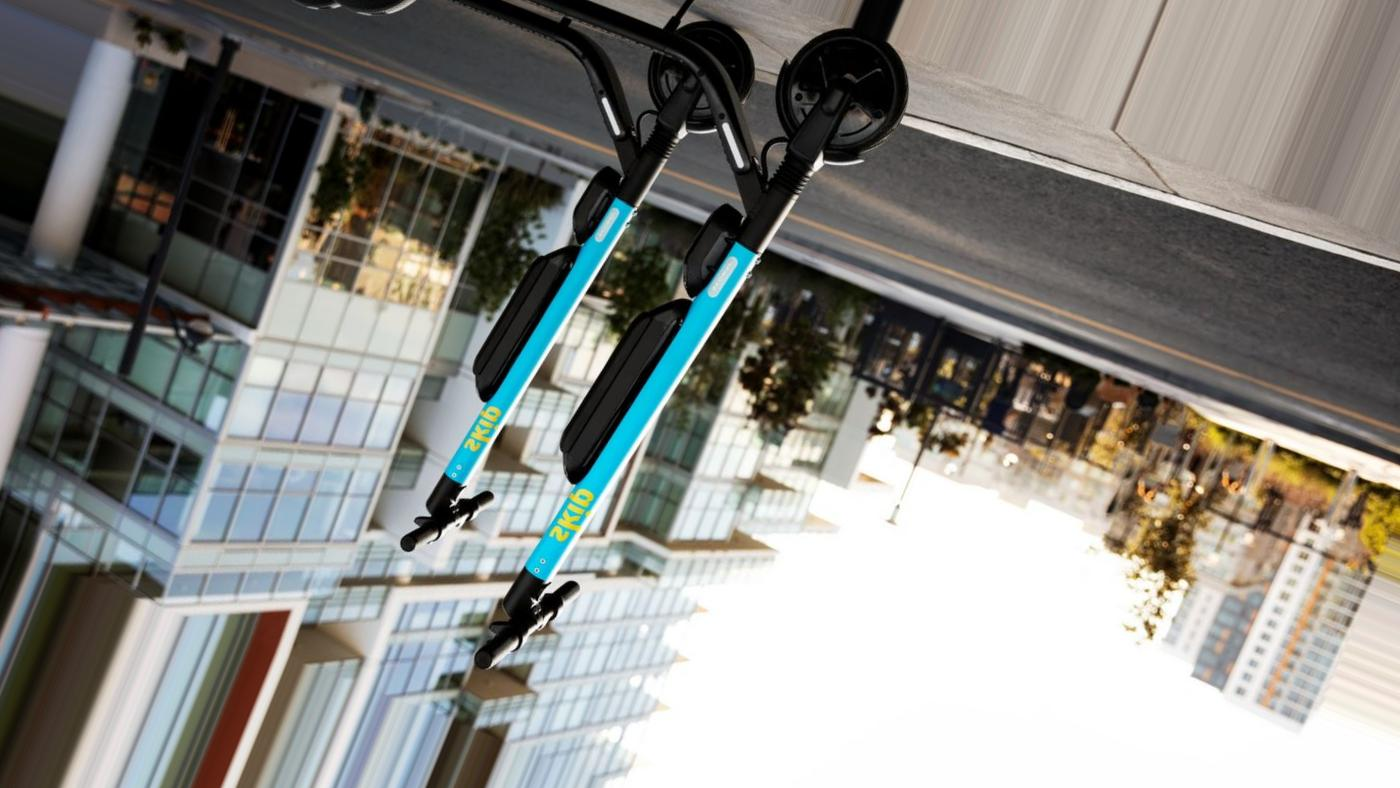scooter: (317, 1, 909, 673), (289, 1, 756, 560)
